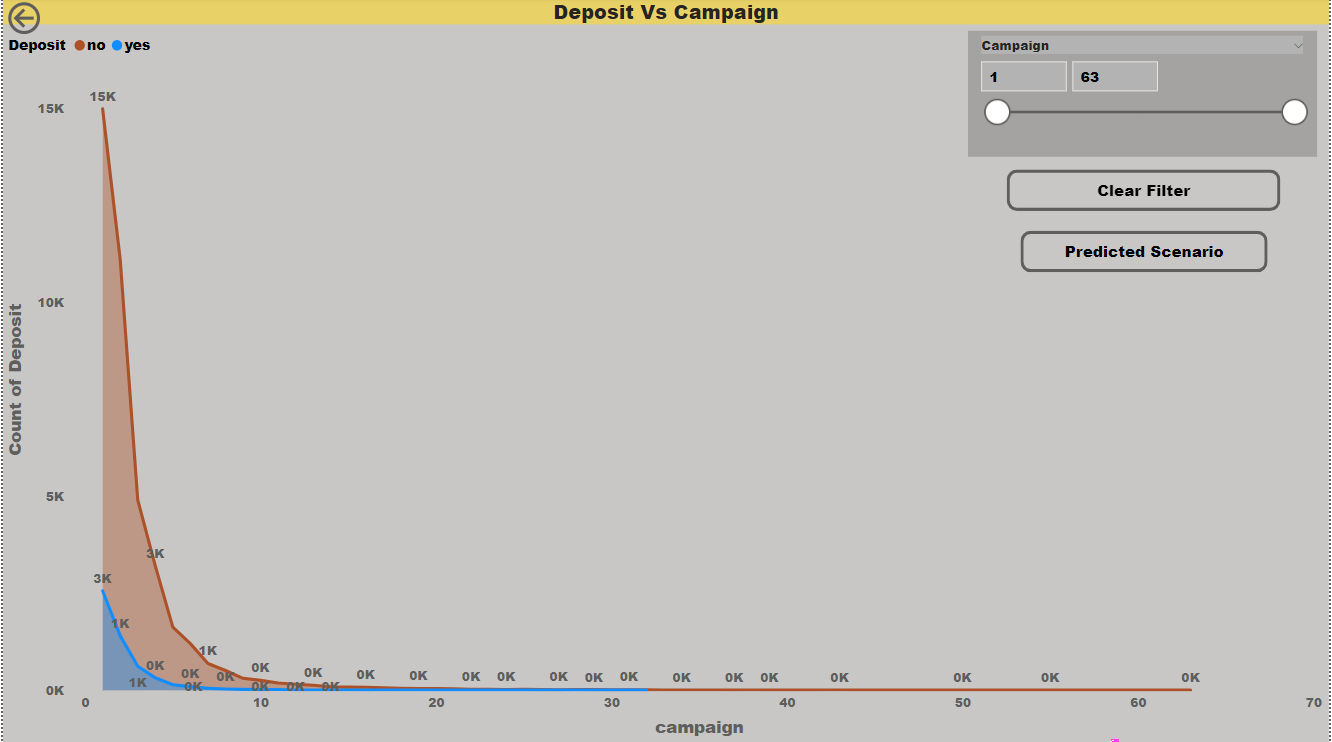

What the dashboard file says about the page in this screenshot:
{"tool":"powerbi","page":{"name":"Deposit Vs Campaign","canvas":[1280,720],"ordinal":18},"visuals":[{"type":"areaChart","title":"Deposit Vs Campaign","fields":{"Category":["bank-full_New.campaign"],"Y":["CountNonNull(bank-full_New.Deposit)"],"Series":["bank-full_New.Deposit"]},"box":[0,0,1279.6,720],"z":0},{"type":"slicer","fields":{"Values":["bank-full_New.campaign"]},"box":[931.1,32.6,336.5,121.8],"z":1000},{"type":"actionButton","box":[968.4,166.4,264.1,39.8],"z":2000},{"type":"actionButton","box":[981.7,225.5,238.8,39.8],"z":3000},{"type":"actionButton","box":[0,0,88,41],"z":4000}]}

Visuals, with their boxes in screenshot pixels (x1, y1, x2, y2), scaled from the page's 1280x720 canvas onto the 1332x742 screenshot:
"Deposit Vs Campaign" areaChart: rect(0, 0, 1331, 741)
slicer - bank-full_New.campaign: rect(969, 34, 1319, 159)
actionButton: rect(1008, 171, 1283, 213)
actionButton: rect(1022, 232, 1270, 273)
actionButton: rect(0, 0, 92, 42)
